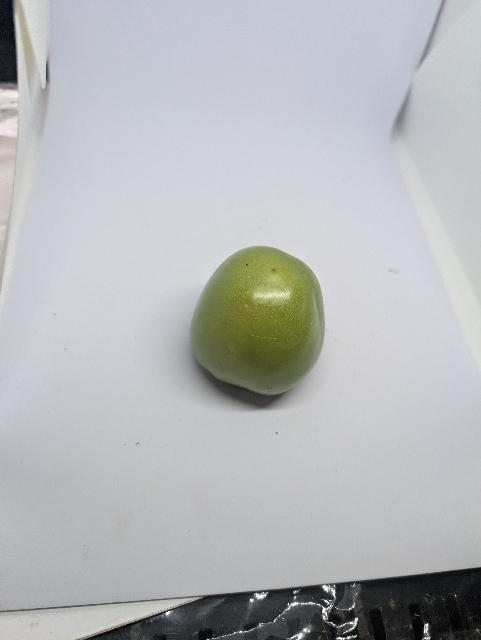green: (188, 243, 328, 398)
